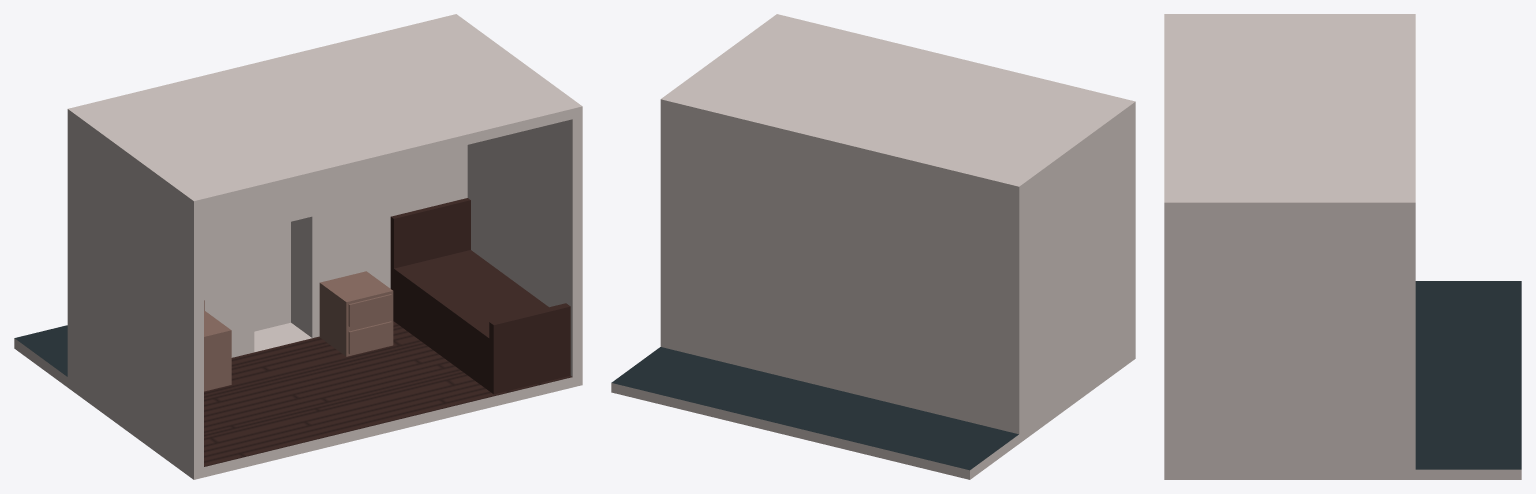
Rendered from dorm.fbx.
3 views of the same model, side by side, from view 1: azimuth 30°, elevation 25°; view 2: azimuth 150°, elevation 25°; view 3: azimuth 270°, elevation 25° (orthographic). The views are drawn at different scales.
Parts seen in each view (by area): view 1: Cube; view 2: Cube; view 3: Cube.
Boxes of the visible parts, box(x1,y1,x2,y2) form: Cube: box(14, 14, 582, 479); Cube: box(611, 14, 1135, 479); Cube: box(1164, 14, 1521, 479).
Bounding box in the file's own units: 400 × 274 × 320.
2 materials, 2 textured.
